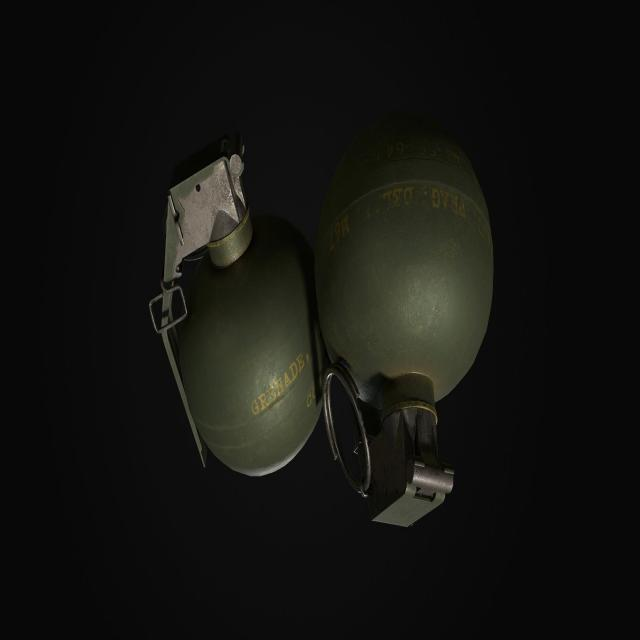grenade: (314, 118, 497, 533), (148, 131, 330, 482)
